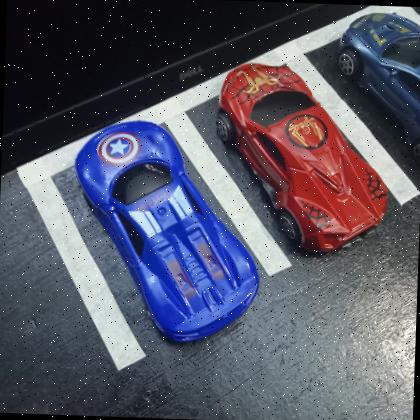Car: (74, 122, 260, 345), (220, 63, 390, 254)
